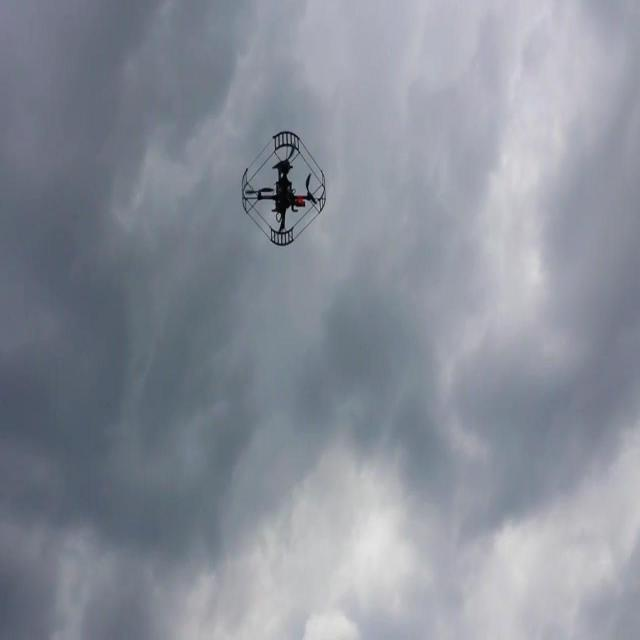UAV: (241, 130, 327, 246)
